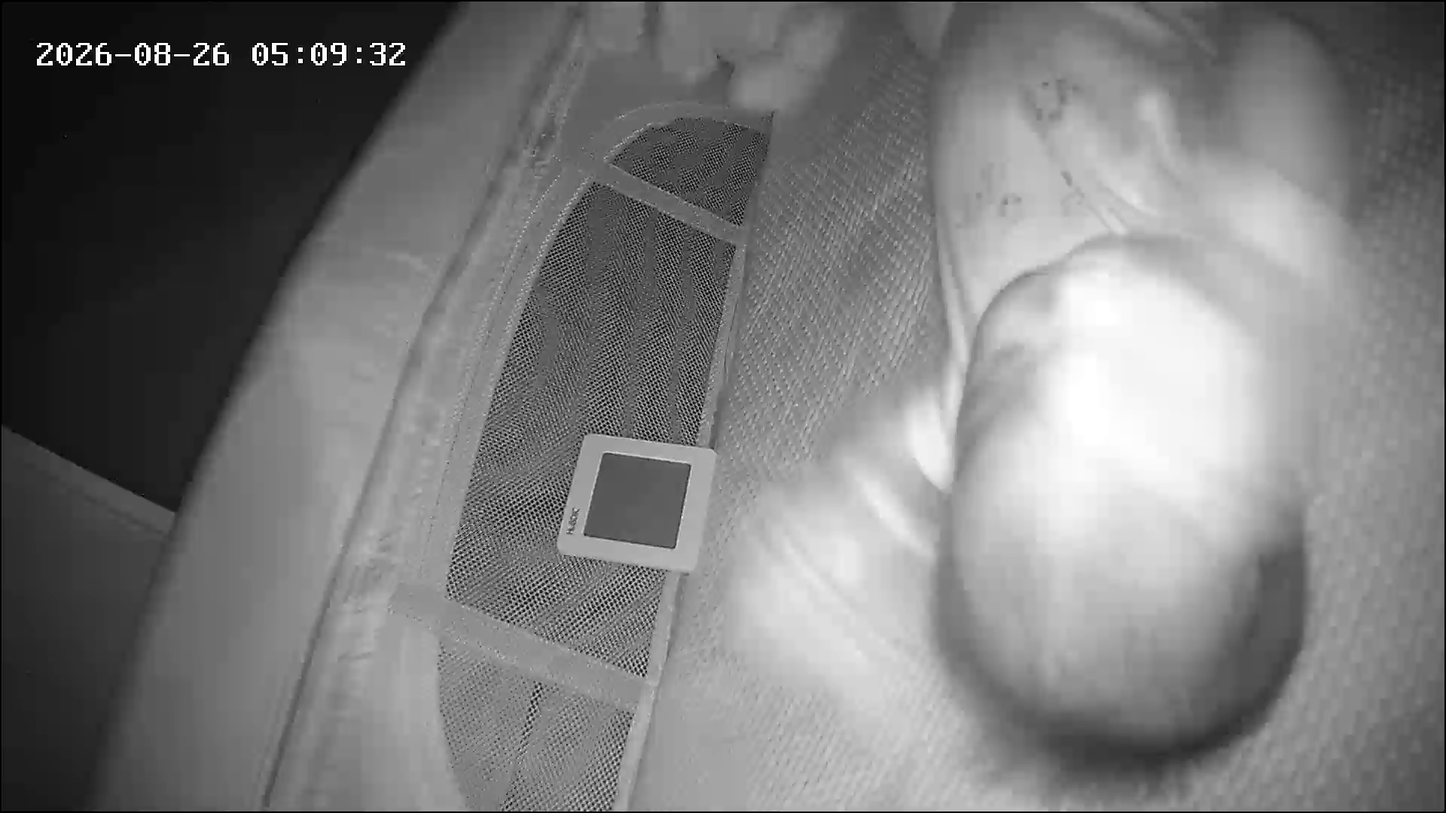baby: (885, 3, 1446, 800)
baby_face: (919, 218, 1337, 782)
